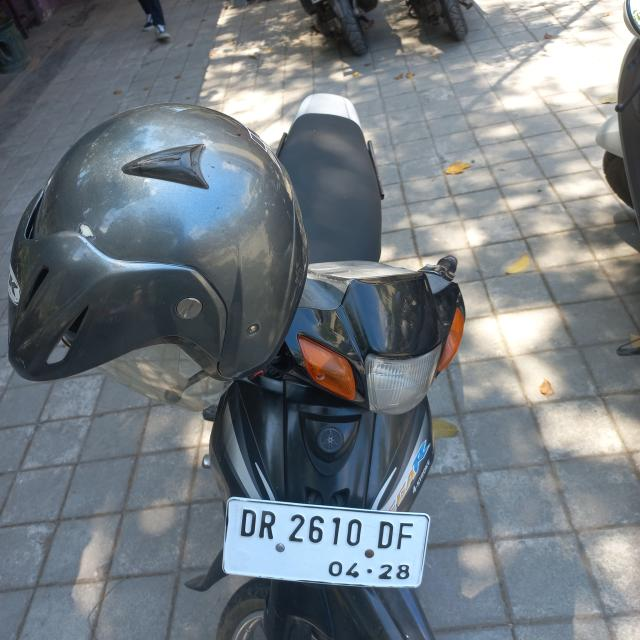plate: (219, 496, 432, 590)
